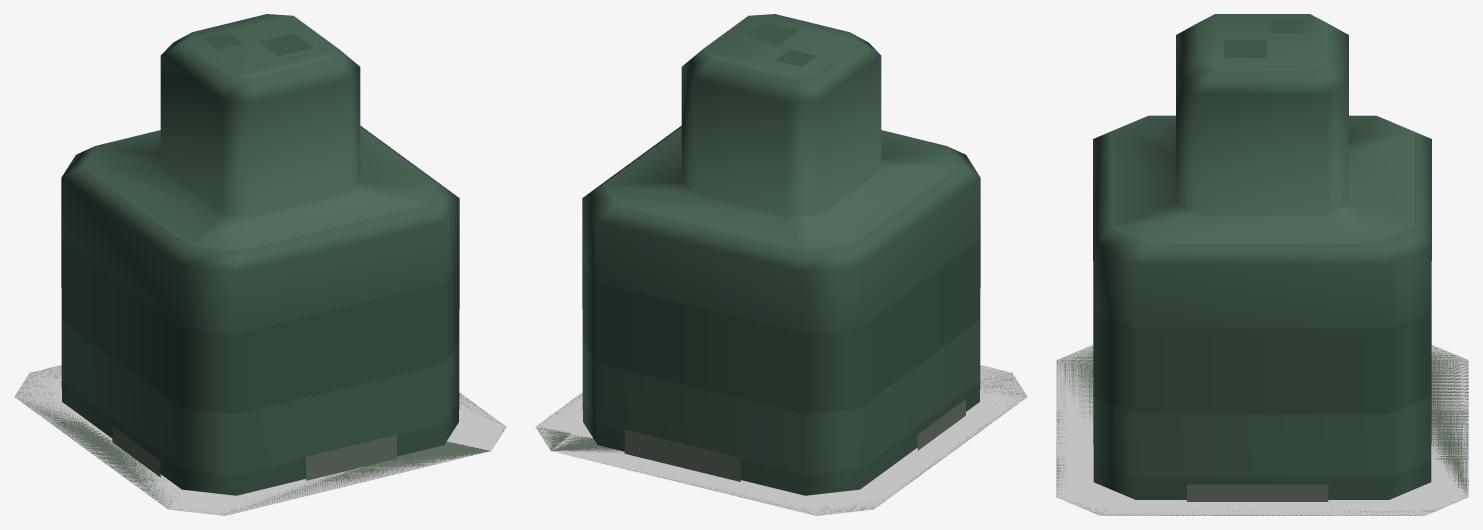
File: B_cave2_rock00.fbx
3 views of the same model, side by side, from view 1: azimuth 30°, elevation 25°; view 2: azimuth 150°, elevation 25°; view 3: azimuth 270°, elevation 25° (orthographic). The views are drawn at different scales.
Visible parts, largest first — view 1: model 1, model; view 2: model 1, model; view 3: model 1, model.
Boxes of the visible parts, x1=… form: model 1: x1=15, y1=14, x2=504, y2=515; model: x1=14, y1=365, x2=506, y2=515; model 1: x1=537, y1=14, x2=1026, y2=515; model: x1=535, y1=365, x2=1027, y2=515; model 1: x1=1056, y1=14, x2=1468, y2=515; model: x1=1056, y1=345, x2=1468, y2=515.
Size of the model in its own units: 2.07 by 2.16 by 2.07.
